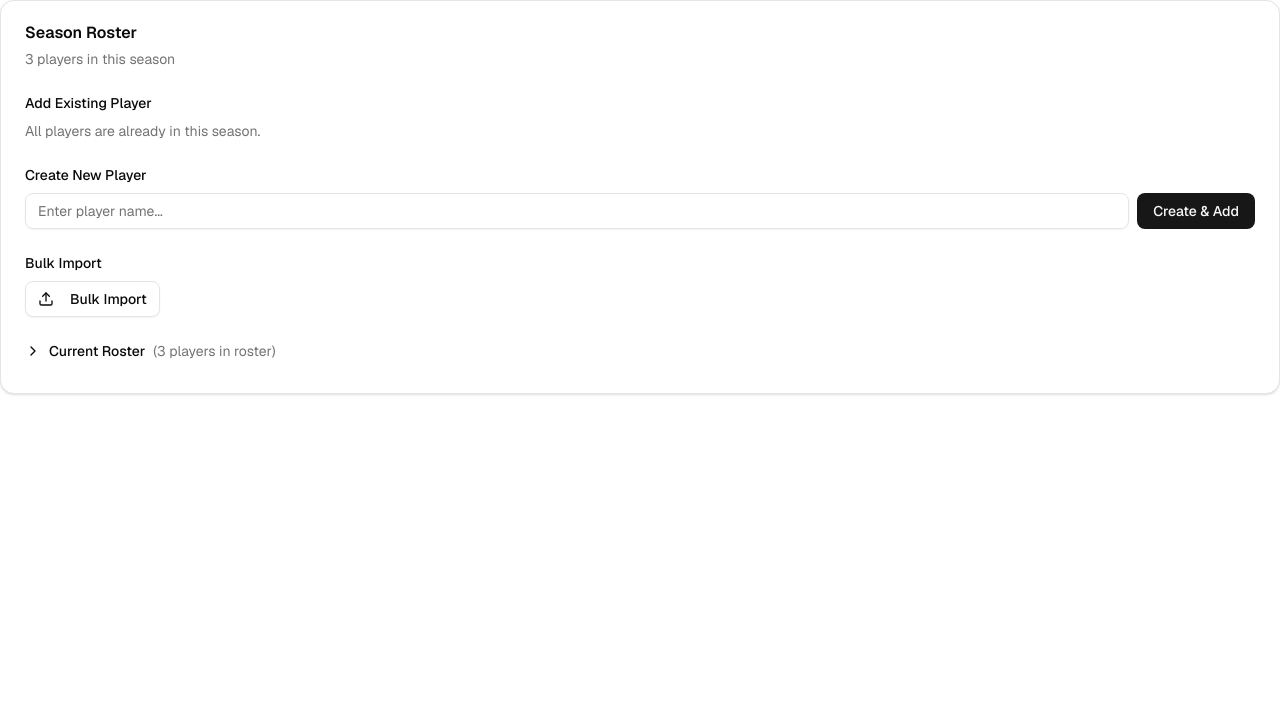
RosterManager - Collapsible Roster › clicking toggle when collapsed expands roster
Click to expand
What coordinates should you click on to do the following:
click the button with test id "roster-toggle"
I would click on:
 (97, 351)
Its box is [25,341,1255,361].
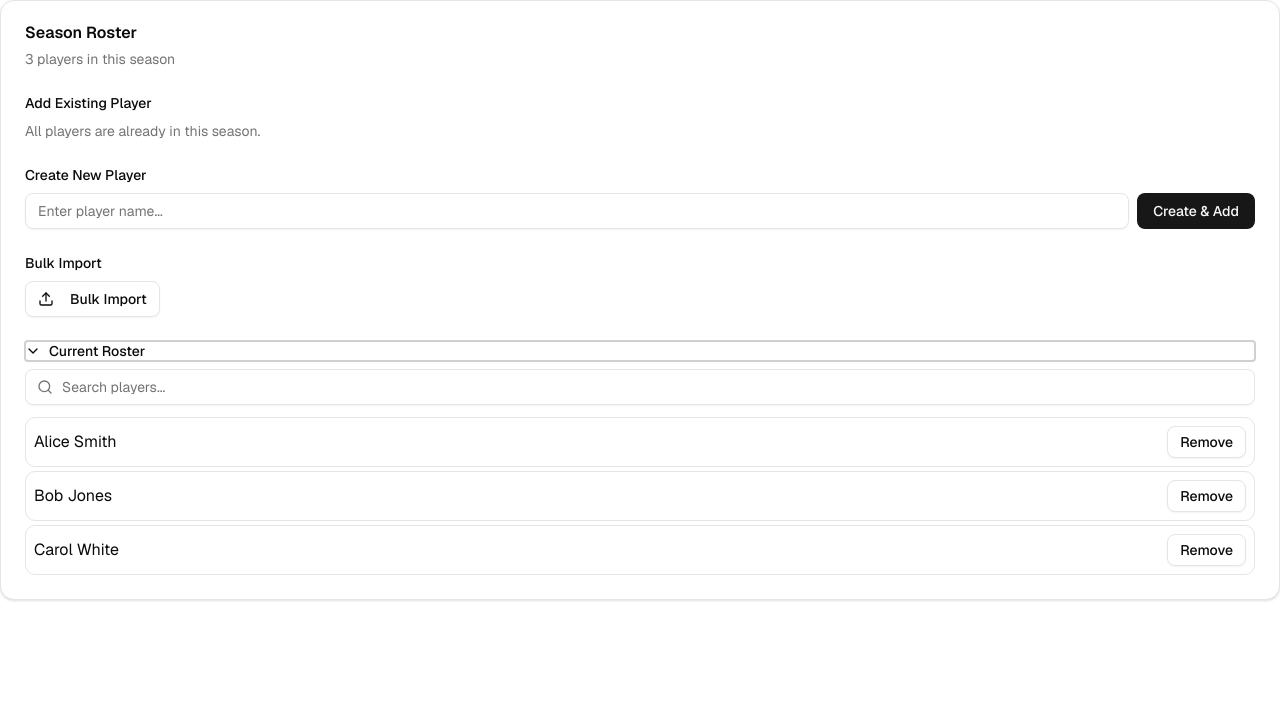
Expected: the icon with test id "chevron-down" is shown, [25,343,41,359]
Expected: the icon with test id "chevron-right" is gone
